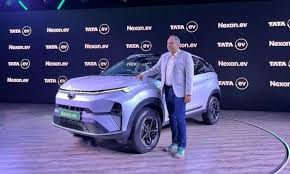Tata Nexon: (51, 52, 162, 155)
